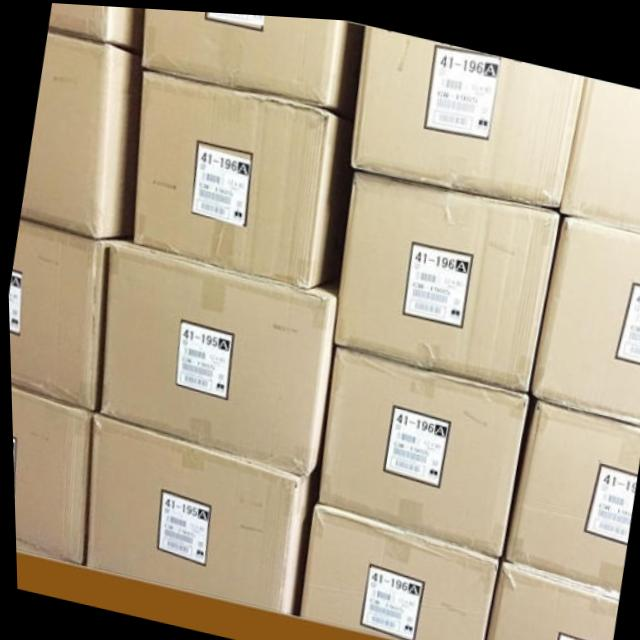box: (97, 240, 338, 475), (329, 167, 559, 390), (131, 69, 353, 284), (77, 415, 315, 615), (311, 340, 527, 554), (352, 21, 586, 209), (294, 500, 499, 640), (499, 390, 640, 591), (19, 28, 143, 240), (139, 7, 365, 115), (531, 205, 640, 416), (7, 217, 104, 413), (9, 386, 98, 564), (557, 70, 640, 225), (481, 556, 614, 640), (47, 2, 145, 58), (13, 537, 79, 567)
